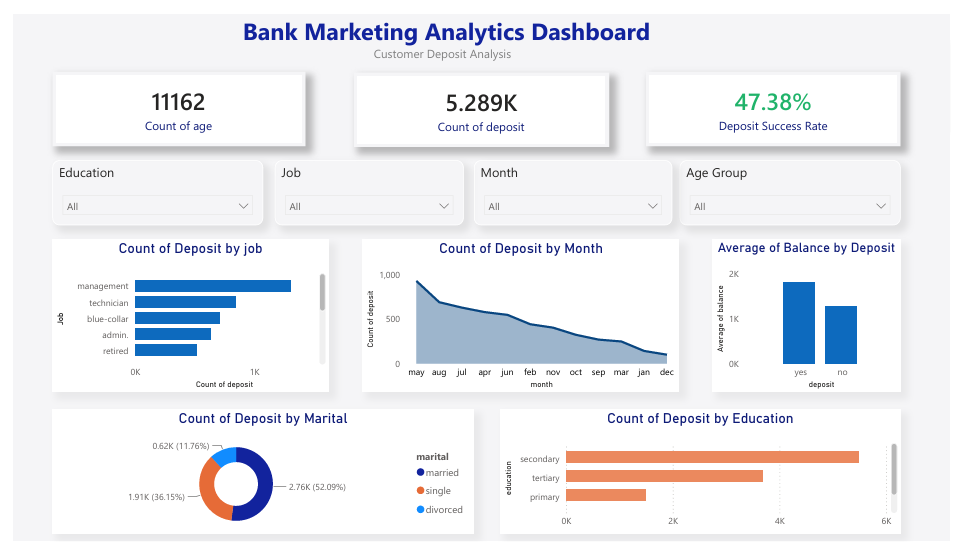

This screenshot's page, from the dashboard's own definition file:
{"tool":"powerbi","page":{"name":"Page 1","canvas":[1280,720],"ordinal":0},"visuals":[{"type":"cardVisual","fields":{"Data":["CountNonNull(bank (1).age)"]},"box":[53.3,77.8,345.6,102.2],"z":0},{"type":"cardVisual","fields":{"Data":["bank (1).Deposit Success Rate"]},"box":[864,77.8,348.5,102.2],"z":1000},{"type":"barChart","title":"Count of Deposit by job","fields":{"Category":["bank (1).job"],"Y":["CountNonNull(bank (1).deposit)"]},"box":[53.3,308.2,377.6,207.8],"z":2000},{"type":"areaChart","title":"Count of Deposit by Month","fields":{"Category":["bank (1).month"],"Y":["CountNonNull(bank (1).deposit)"]},"box":[476.6,308.2,433.4,207.4],"z":3000},{"type":"barChart","title":"Count of Deposit by Education","fields":{"Category":["bank (1).education"],"Y":["CountNonNull(bank (1).deposit)"]},"box":[665.3,540,547.2,169.9],"z":4000},{"type":"donutChart","title":"Count of Deposit by Marital","fields":{"Category":["bank (1).marital"],"Y":["CountNonNull(bank (1).deposit)"]},"box":[53.3,540,576,169.9],"z":5000},{"type":"clusteredColumnChart","title":"Average of Balance by Deposit","fields":{"Category":["bank (1).deposit"],"Y":["Avg(bank (1).balance)"]},"box":[954.7,308.2,257.8,207.4],"z":6000},{"type":"slicer","title":"Education","fields":{"Values":["bank (1).education"]},"box":[53.3,198.7,288,89.3],"z":7000},{"type":"textbox","title":"Bank Marketing Analytics Dashboard","box":[308.2,0,789.1,43.2],"z":8000},{"type":"textbox","title":"Customer Deposit Analysis","box":[486.7,43.2,413.3,36],"z":9000},{"type":"cardVisual","fields":{"Data":["CountNonNull(bank (1).deposit)"]},"box":[465.1,79.2,348.5,102.2],"z":10000},{"type":"slicer","title":"Age Group","fields":{"Values":["bank (1).Age Group"]},"box":[910.1,198.7,302.4,89.3],"z":11000},{"type":"slicer","title":"Job","fields":{"Values":["bank (1).job"]},"box":[357.1,198.7,257.8,89.3],"z":12000},{"type":"slicer","title":"Month","fields":{"Values":["bank (1).month"]},"box":[629.3,198.7,270.7,89.3],"z":13000}]}

Visuals, with their boxes in screenshot pixels (x1, y1, x2, y2), scaled from the page's 1280x720 canvas onto the 966x555 screenshot:
cardVisual - CountNonNull(bank (1).age): (40,60,301,139)
cardVisual - bank (1).Deposit Success Rate: (652,60,915,139)
"Count of Deposit by job" barChart: (40,238,325,398)
"Count of Deposit by Month" areaChart: (360,238,687,397)
"Count of Deposit by Education" barChart: (502,416,915,547)
"Count of Deposit by Marital" donutChart: (40,416,475,547)
"Average of Balance by Deposit" clusteredColumnChart: (721,238,915,397)
"Education" slicer: (40,153,258,222)
"Bank Marketing Analytics Dashboard" textbox: (233,0,828,33)
"Customer Deposit Analysis" textbox: (367,33,679,61)
cardVisual - CountNonNull(bank (1).deposit): (351,61,614,140)
"Age Group" slicer: (687,153,915,222)
"Job" slicer: (269,153,464,222)
"Month" slicer: (475,153,679,222)
